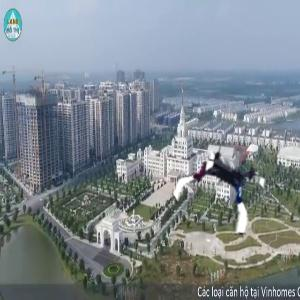drone: (172, 142, 268, 238)
